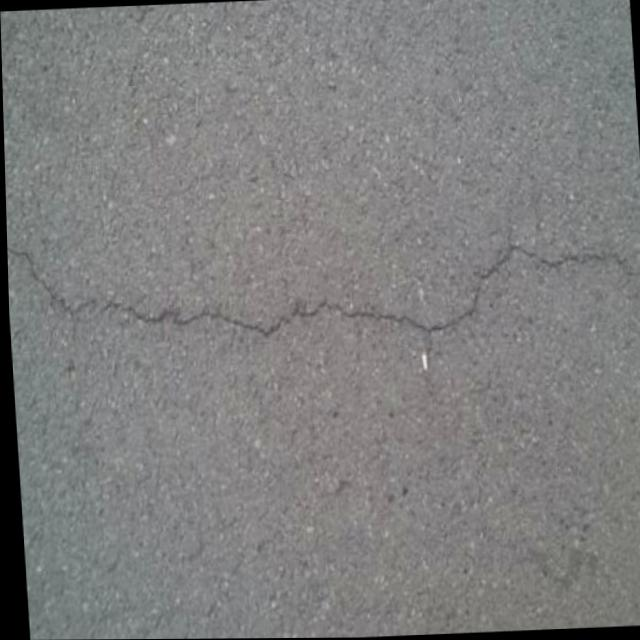Crack: (5, 206, 640, 352)
